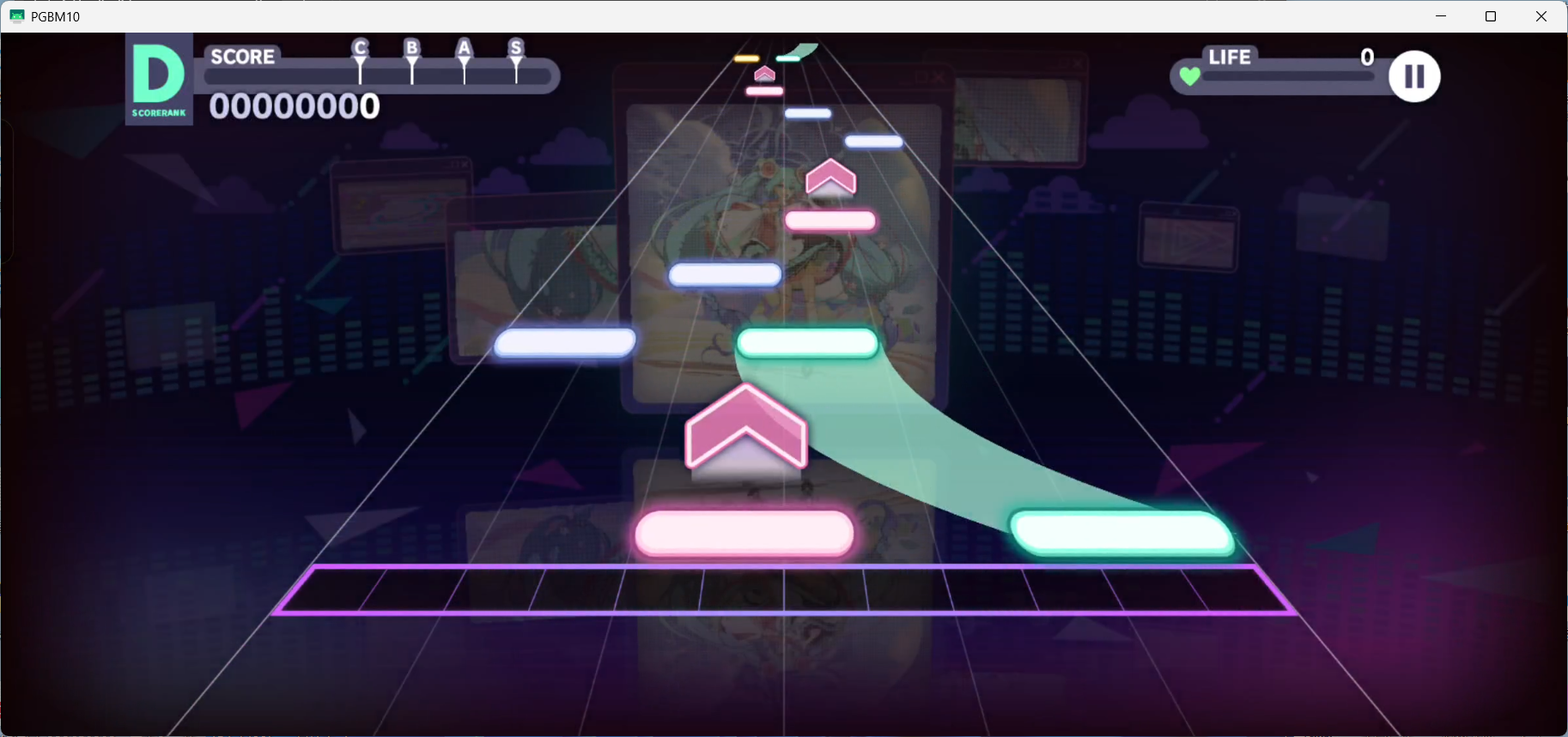flick: (684, 382, 809, 485), (806, 158, 856, 198), (754, 65, 775, 82)
hold: (738, 360, 1158, 513), (784, 43, 818, 56)
tap: (1006, 510, 1237, 559), (632, 509, 856, 559), (738, 328, 878, 359), (493, 329, 635, 358), (668, 263, 781, 287), (785, 211, 876, 231), (845, 136, 903, 148), (785, 108, 831, 118), (746, 87, 783, 95), (733, 55, 759, 62), (775, 55, 800, 62)
